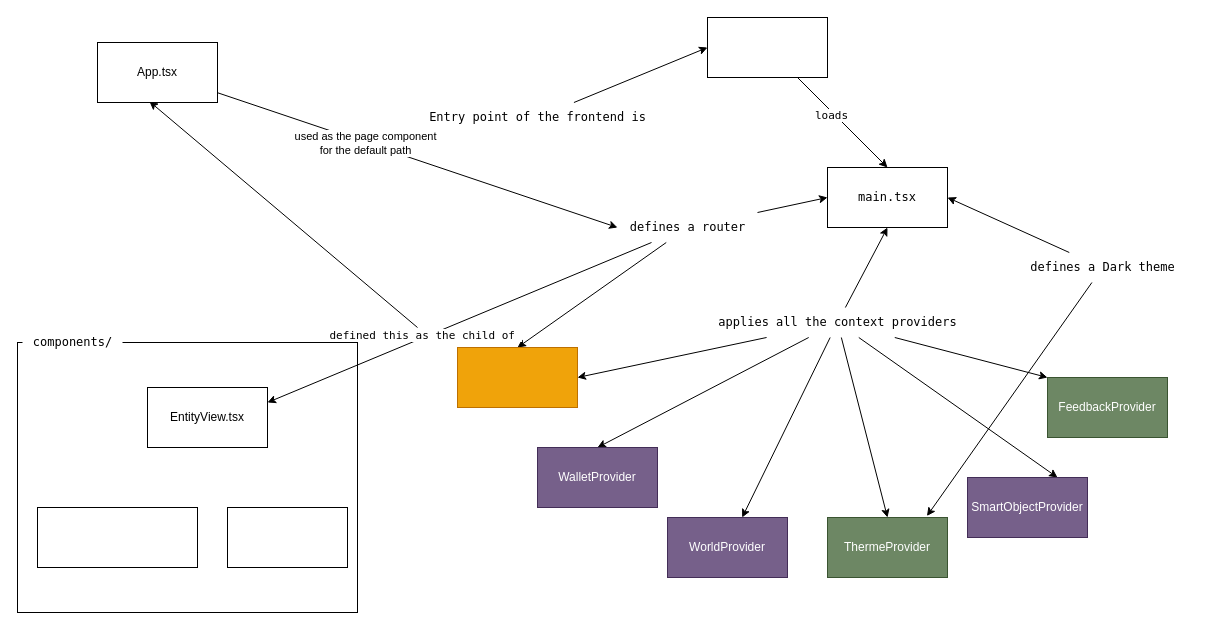
This 1205x630 diagram has some shape labels left out. Each missing label, with the centre of its shape:
"index.html" belongs at point (767, 47).
"Modules.tsx" belongs at point (287, 537).
"RouterProvider" belongs at point (517, 377).
"SmartStorageUnitActions.tsx" belongs at point (117, 537).
